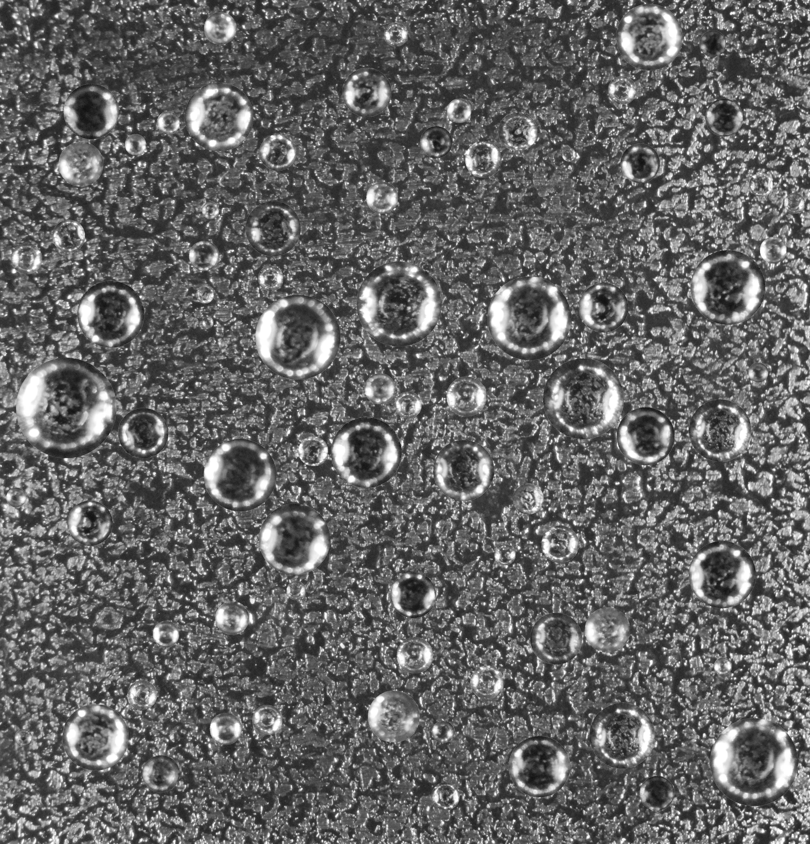Bubble: (16, 357, 116, 458), (710, 718, 798, 806), (255, 294, 340, 379), (356, 261, 441, 346), (487, 276, 571, 360), (543, 358, 623, 439), (690, 250, 765, 324), (203, 438, 276, 511), (259, 503, 330, 574), (331, 417, 401, 487), (184, 82, 253, 151), (688, 541, 755, 608), (77, 280, 144, 347), (616, 4, 682, 70), (62, 704, 128, 770), (589, 703, 655, 768), (689, 399, 751, 461), (508, 736, 570, 797), (433, 440, 494, 500), (616, 407, 674, 465), (63, 83, 118, 139), (245, 201, 300, 256), (530, 612, 582, 664), (368, 690, 419, 742), (118, 408, 168, 458), (578, 282, 628, 332), (342, 67, 391, 116), (390, 572, 436, 618), (67, 500, 112, 545), (58, 141, 103, 186), (585, 607, 630, 652), (446, 376, 486, 416), (498, 111, 537, 150), (620, 143, 659, 182), (705, 98, 743, 136), (142, 755, 179, 792), (541, 525, 578, 562), (396, 637, 432, 673), (259, 134, 295, 170), (465, 141, 501, 177), (639, 776, 674, 810), (470, 665, 504, 699), (215, 601, 248, 634), (52, 219, 84, 252), (366, 181, 398, 213), (420, 126, 452, 158), (204, 12, 236, 44), (209, 713, 241, 744), (11, 243, 42, 274), (512, 483, 543, 514), (364, 373, 395, 404), (189, 240, 219, 270), (298, 436, 328, 466), (252, 705, 282, 735), (127, 680, 156, 709), (608, 76, 636, 104), (431, 782, 459, 810), (394, 391, 421, 418), (152, 621, 179, 647), (760, 236, 786, 263), (699, 30, 726, 56), (258, 265, 283, 291), (447, 98, 471, 122), (384, 22, 407, 46), (749, 172, 772, 196), (156, 111, 179, 134), (432, 720, 454, 742), (124, 134, 145, 155), (494, 544, 515, 565), (784, 192, 805, 213), (748, 362, 768, 382), (6, 487, 26, 507), (286, 581, 305, 600), (14, 729, 32, 746), (196, 285, 213, 303), (714, 657, 731, 675), (202, 201, 219, 218), (562, 147, 575, 161), (202, 316, 213, 328), (196, 810, 206, 821)
